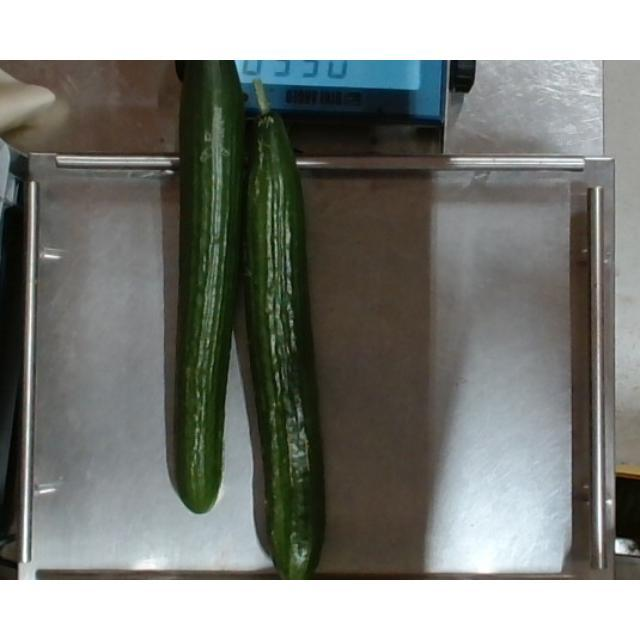cucumber: (251, 78, 319, 580), (176, 60, 230, 516)
